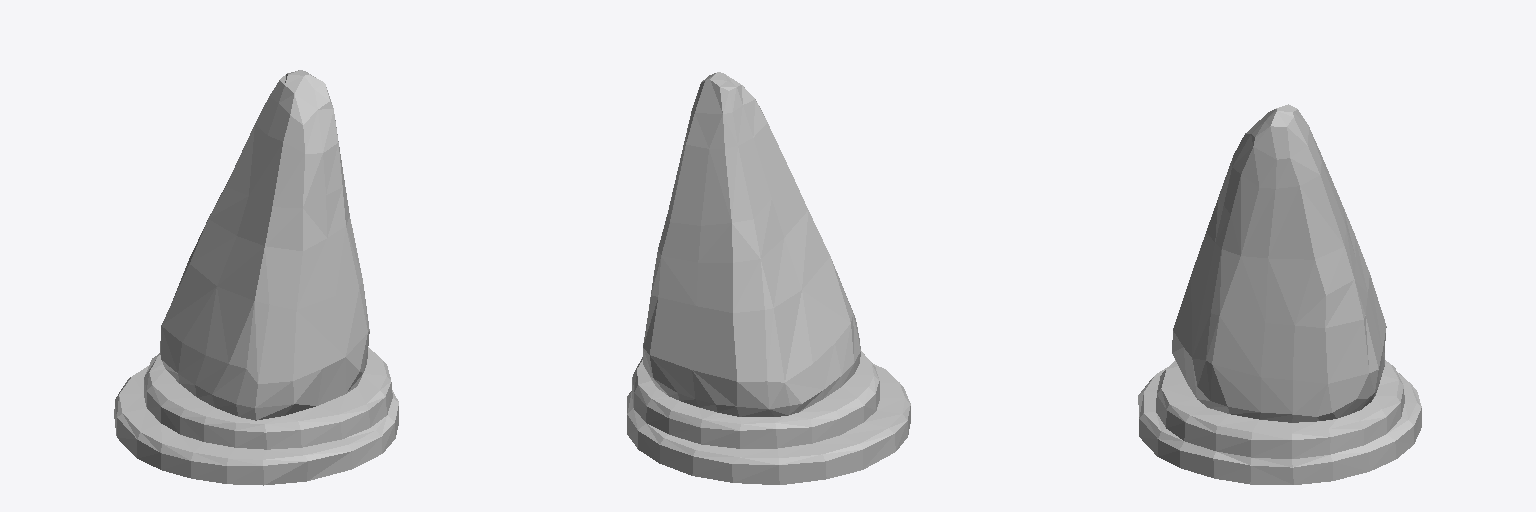
The model's file is rune_01_mesh.obj.
3 renders of one model, left to right at view 1: azimuth 30°, elevation 25°; view 2: azimuth 150°, elevation 25°; view 3: azimuth 270°, elevation 25°, orthographic.
Parts seen in each view (by area): view 1: rune_01; view 2: rune_01; view 3: rune_01.
Part boxes in pixels (x1,y1,x2,y2): rune_01: (114, 70, 398, 485); rune_01: (627, 72, 910, 484); rune_01: (1138, 104, 1421, 484).
Size of the model in its own units: 10.82 by 14.27 by 10.79.